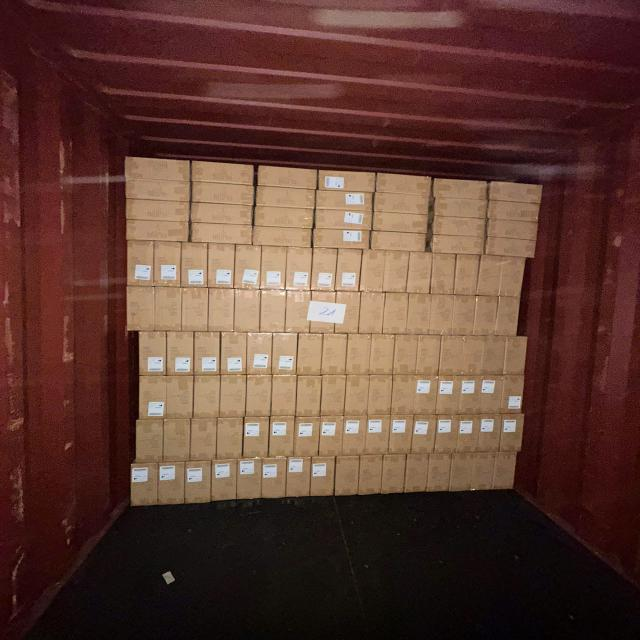Carton: (123, 154, 192, 182), (124, 180, 192, 206), (127, 215, 192, 242), (125, 198, 192, 224), (192, 182, 256, 208), (191, 160, 255, 186), (191, 221, 255, 245), (257, 168, 318, 193), (191, 202, 254, 226), (434, 180, 492, 206), (254, 187, 316, 211), (487, 182, 542, 208), (253, 206, 314, 229), (254, 225, 315, 248), (434, 195, 490, 220), (484, 233, 539, 258), (126, 286, 156, 331), (485, 218, 539, 243), (486, 200, 542, 224), (318, 170, 376, 193), (371, 194, 429, 217), (314, 209, 374, 231), (155, 243, 183, 290), (373, 176, 430, 199), (127, 242, 155, 288), (135, 420, 164, 464), (314, 230, 372, 252), (373, 210, 428, 233), (429, 232, 484, 255), (156, 288, 184, 333), (164, 419, 192, 464), (132, 463, 160, 508), (139, 374, 167, 419), (317, 192, 376, 213), (139, 332, 167, 376), (194, 374, 222, 418), (181, 244, 208, 289), (208, 245, 235, 290), (208, 290, 236, 333), (168, 375, 195, 419), (186, 462, 213, 506), (220, 333, 247, 377), (160, 463, 187, 507), (430, 215, 484, 237), (236, 247, 262, 292), (195, 332, 222, 375), (167, 332, 194, 375), (371, 233, 426, 254), (182, 289, 208, 333), (286, 249, 312, 293), (247, 333, 273, 377), (336, 250, 362, 294), (220, 374, 246, 417), (272, 334, 298, 377), (211, 460, 237, 503), (312, 250, 338, 293), (263, 247, 288, 291), (262, 292, 288, 334), (236, 292, 262, 334), (190, 420, 216, 462), (218, 419, 244, 461), (320, 376, 346, 418), (286, 292, 311, 335), (359, 293, 384, 336), (298, 375, 323, 418), (270, 418, 296, 459), (336, 292, 360, 336), (314, 290, 338, 334), (247, 376, 272, 418), (298, 334, 323, 376), (370, 334, 395, 376), (244, 416, 269, 458), (384, 294, 409, 336), (407, 254, 432, 296), (346, 334, 371, 376), (383, 252, 408, 294), (392, 334, 417, 376), (440, 336, 466, 376), (460, 335, 486, 375), (238, 459, 262, 502), (362, 251, 386, 294), (273, 375, 298, 416), (336, 455, 361, 496), (416, 335, 441, 376), (499, 258, 524, 299), (324, 334, 348, 376), (455, 256, 479, 298), (264, 456, 288, 498), (408, 294, 432, 336), (430, 254, 454, 296), (478, 257, 502, 299), (294, 417, 319, 457), (286, 457, 311, 497), (382, 454, 407, 494), (367, 375, 392, 415), (474, 298, 499, 338), (412, 415, 437, 455), (495, 298, 520, 338), (479, 375, 504, 415), (365, 414, 389, 455), (389, 414, 413, 455), (346, 376, 370, 417), (437, 374, 461, 415), (429, 296, 453, 337), (392, 374, 416, 415), (452, 296, 475, 338), (312, 456, 336, 496), (319, 416, 343, 456), (503, 336, 527, 376), (493, 452, 517, 492), (449, 452, 473, 492), (344, 415, 367, 456), (359, 454, 382, 495), (482, 336, 506, 375), (436, 415, 459, 455), (501, 375, 524, 415), (470, 451, 493, 491), (406, 455, 430, 493), (499, 414, 523, 452), (415, 375, 437, 416), (427, 454, 450, 493), (478, 413, 501, 452), (456, 414, 478, 454), (460, 373, 482, 413)
